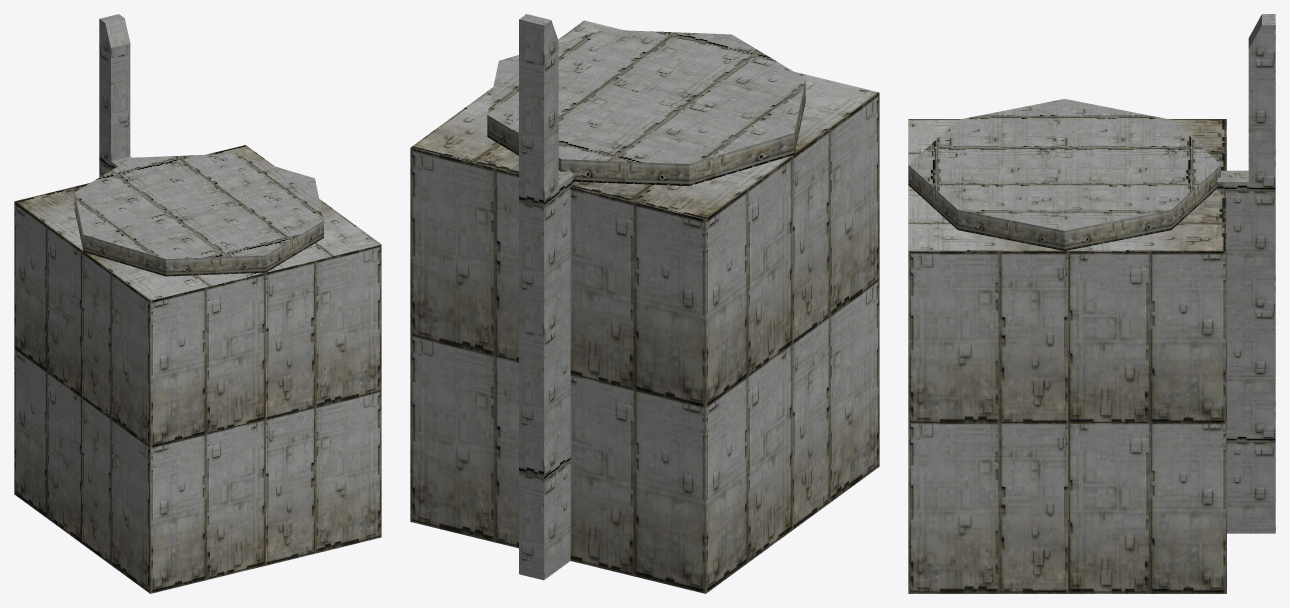
The model's file is ins_all_def_turret_lg_s03_l1.fbx.
The picture shows the model from 3 angles, left to right: view 1: azimuth 30°, elevation 25°; view 2: azimuth 150°, elevation 25°; view 3: azimuth 270°, elevation 25°; orthographic projection. The views are drawn at different scales.
Visible parts, largest first — view 1: mesh_node; view 2: mesh_node; view 3: mesh_node.
Part boxes in pixels (<box>): mesh_node: <box>14,14,381,593</box>; mesh_node: <box>410,14,879,593</box>; mesh_node: <box>908,14,1275,593</box>.
Bounding box in the file's own units: 2.89 × 5.19 × 3.39.
